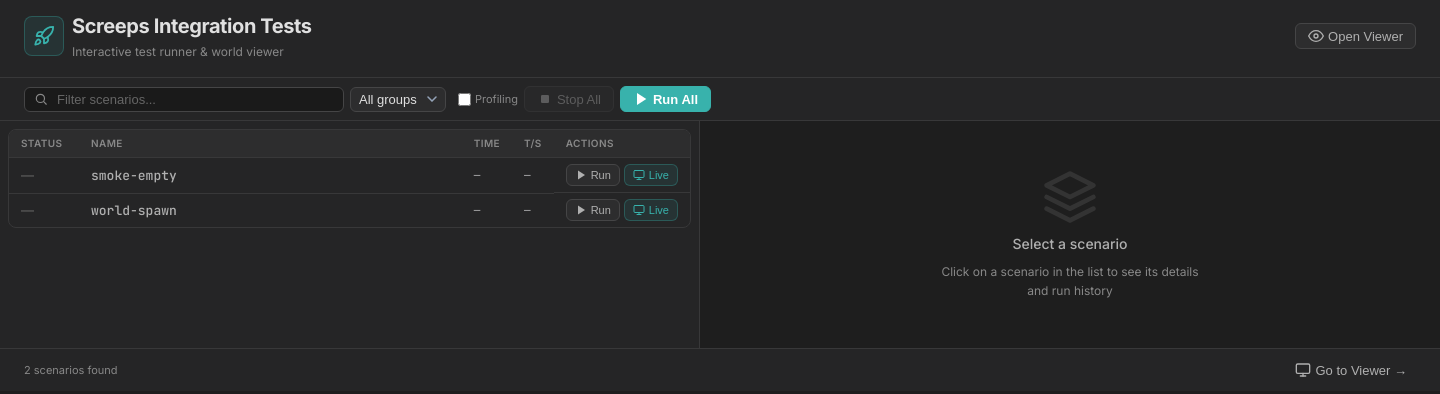
Test: ScenarioManager Run All / Stop All › Run All posts a single run-all request and marks all scenarios pending
Click the button "Run All": (666, 99) [620,86,711,112]
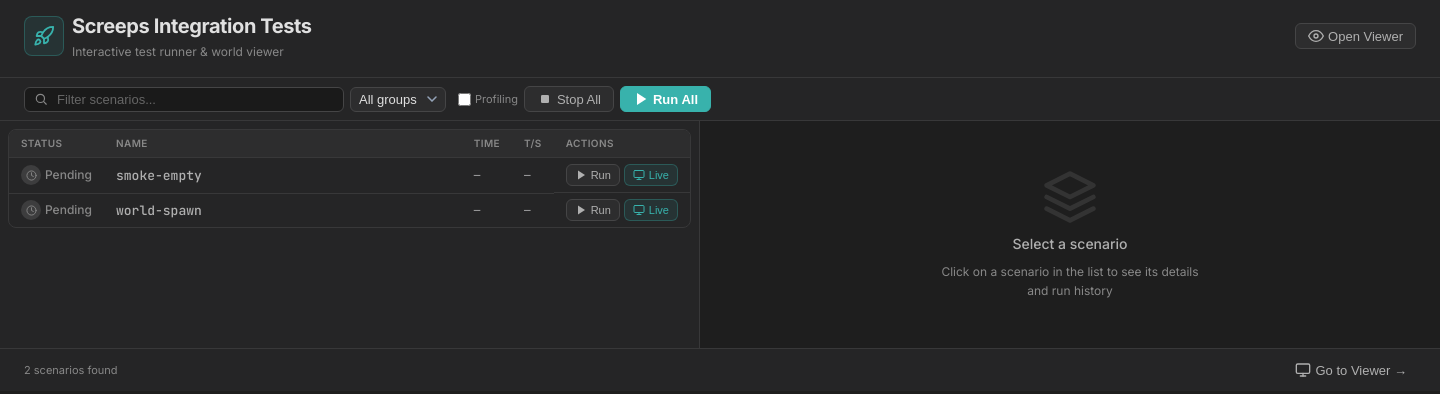
Expected: the text "Pending" is shown 2 times, [45,166,92,184]; [45,201,92,219]
